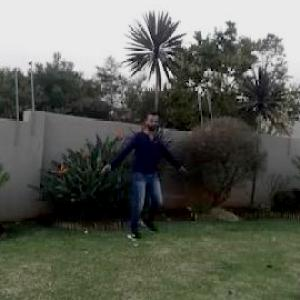land: (70, 96, 202, 258)
